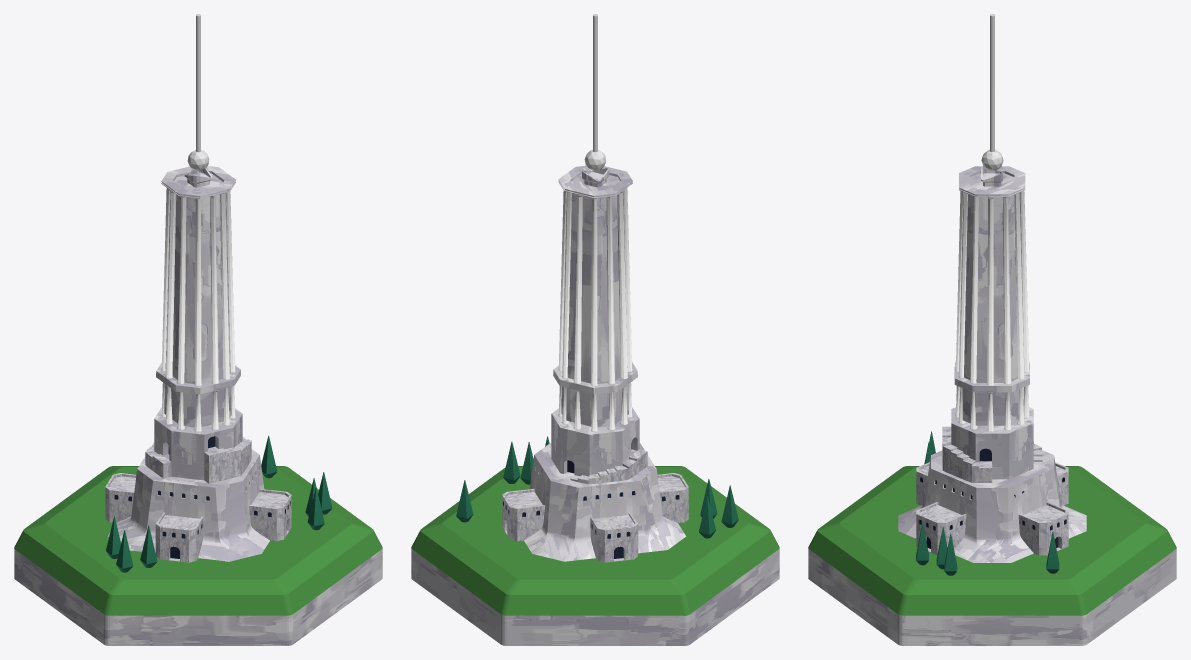
Rendered from TowerCentral.fbx.
3 views of the same model, side by side, from view 1: azimuth 30°, elevation 25°; view 2: azimuth 150°, elevation 25°; view 3: azimuth 270°, elevation 25° (orthographic).
Parts seen in each view (by area): view 1: Cylinder, Cube, Cube.004, Cube.005, Cube.006, Cube.002, Cube.003, Cylinder.001, Cube.001; view 2: Cylinder, Cube, Cube.004, Cube.006, Cube.005, Cube.003, Cube.001, Cylinder.001; view 3: Cylinder, Cube, Cube.004, Cube.006, Cube.005, Cube.002, Cube.003, Cylinder.001.
Part boxes in pixels (x1,y1,x2,y2): Cylinder: (14,466,382,645); Cube: (107,166,269,561); Cube.004: (161,188,235,385); Cube.005: (105,473,291,541); Cube.006: (155,512,203,562); Cube.002: (204,437,251,483); Cube.003: (161,382,235,431); Cylinder.001: (196,14,200,152); Cube.001: (145,444,171,478); Cylinder: (411,466,779,645); Cube: (524,165,686,561); Cube.004: (558,188,632,385); Cube.006: (502,473,688,541); Cube.005: (590,512,638,562); Cube.003: (558,382,632,431); Cube.001: (570,449,647,484); Cylinder.001: (593,14,597,152); Cylinder: (808,466,1176,645); Cube: (898,166,1086,562); Cube.004: (955,191,1029,385); Cube.006: (916,462,1068,555); Cube.005: (916,462,1068,555); Cube.002: (942,426,992,482); Cube.003: (955,385,1029,431); Cylinder.001: (990,14,994,151).
Size of the model in its own units: 390 by 754 by 447.
Materials: 6 (2 with a texture image).
